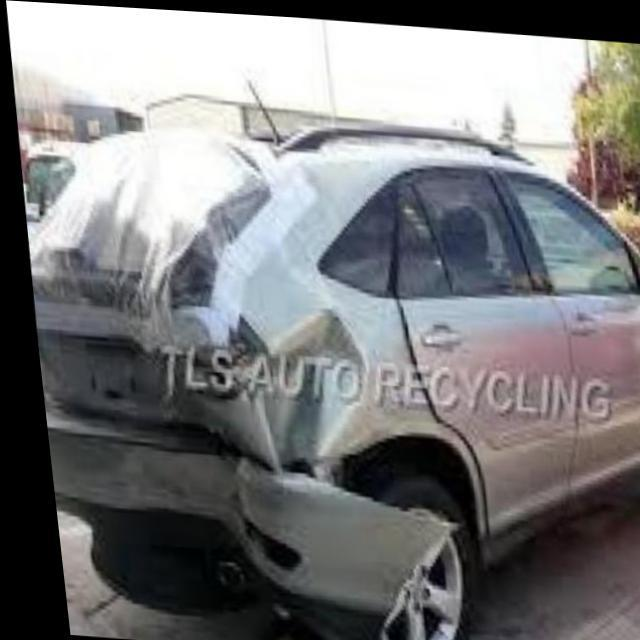crash: (21, 127, 454, 636)
